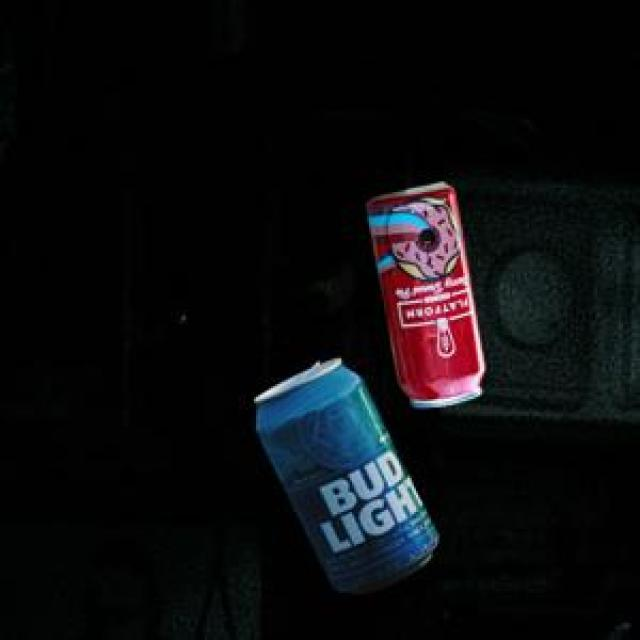logam: (253, 355, 434, 590), (364, 178, 481, 404)
